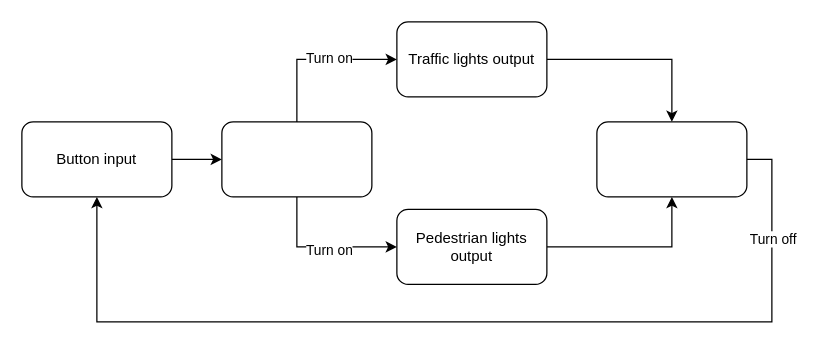
Some shapes in this 818 by 354 pixel diagram are drawn without their labels. The centre of each missing label's shape, as x and y in pixels:
"Arduino Microcontroller" belongs at (296,159).
"Timer" belongs at (671,159).
